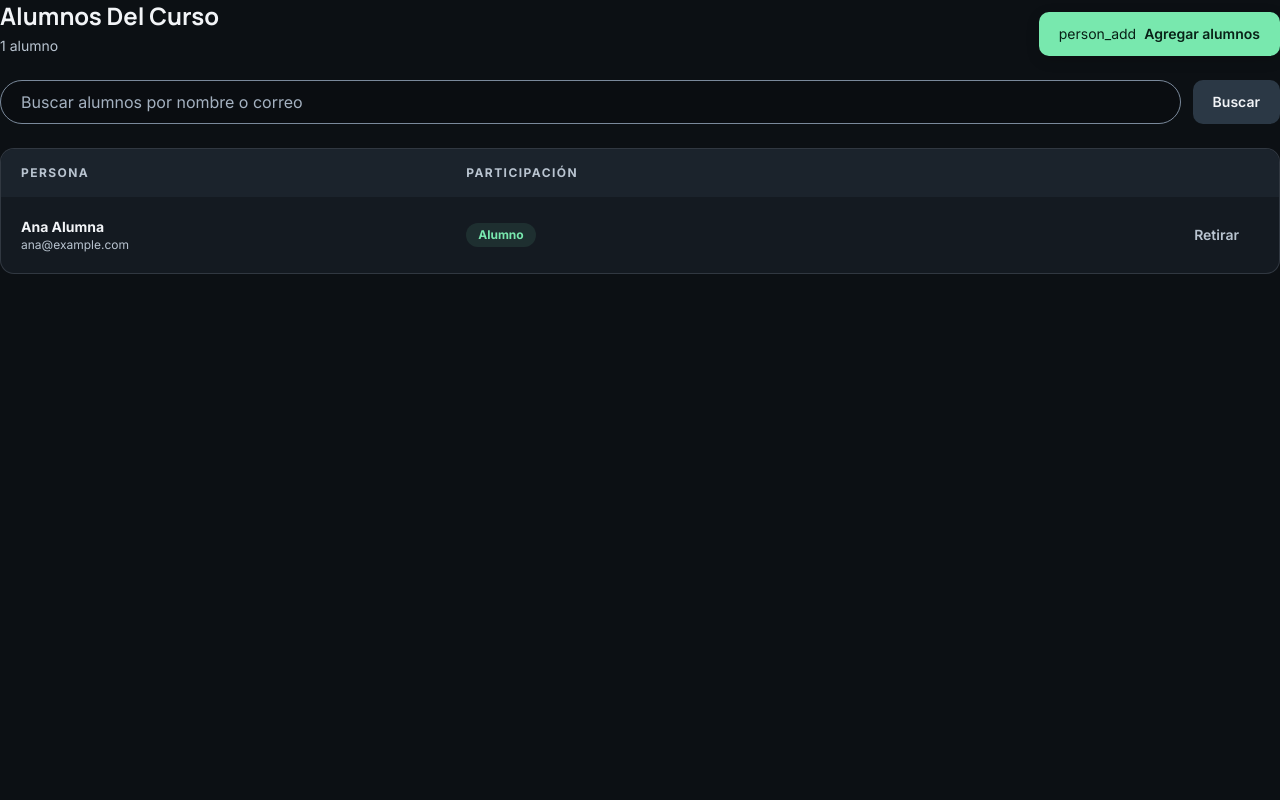
CourseParticipantManager › conserva diálogo y selección ante un conflicto recuperable
Click the button "person_add Agregar alumnos": click(1159, 34) [1039, 12, 1279, 56]
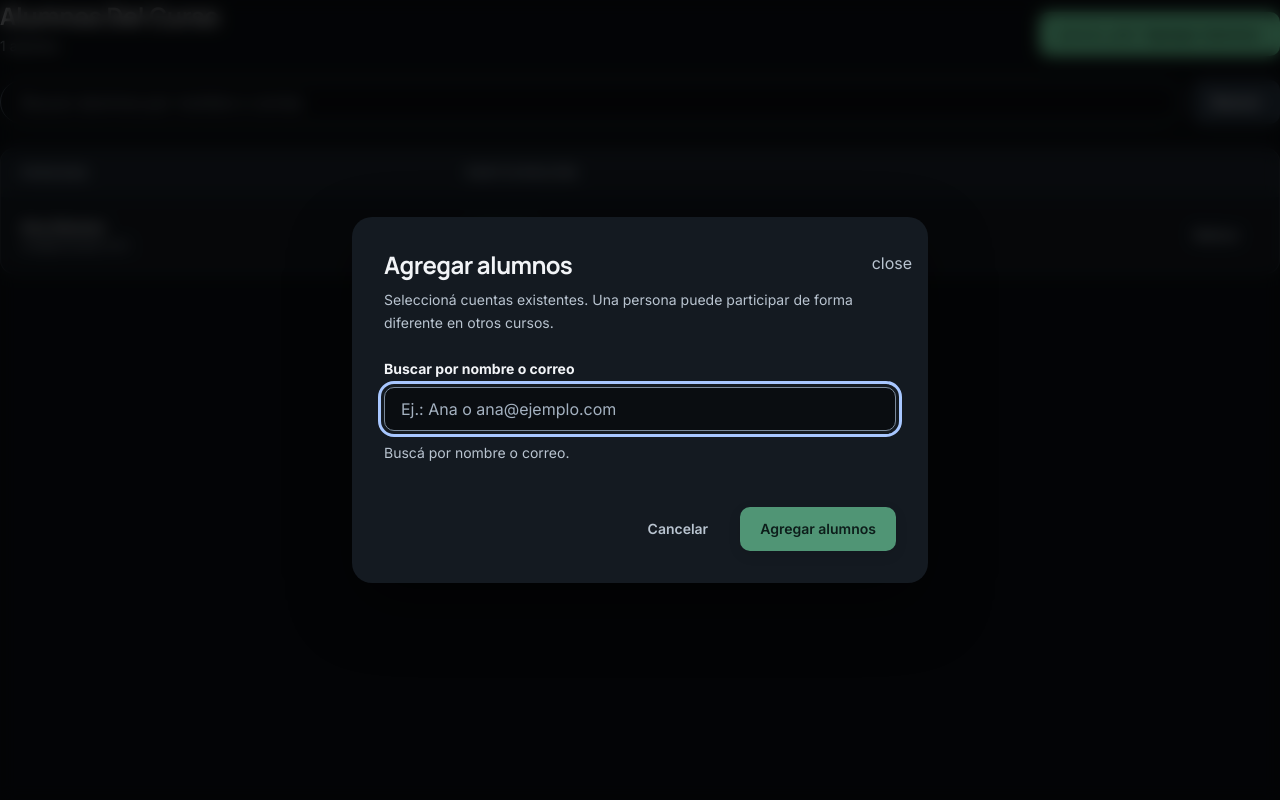
In the search field labelled "Buscar por nombre o correo": (640, 409) [384, 387, 896, 431], type "ad"
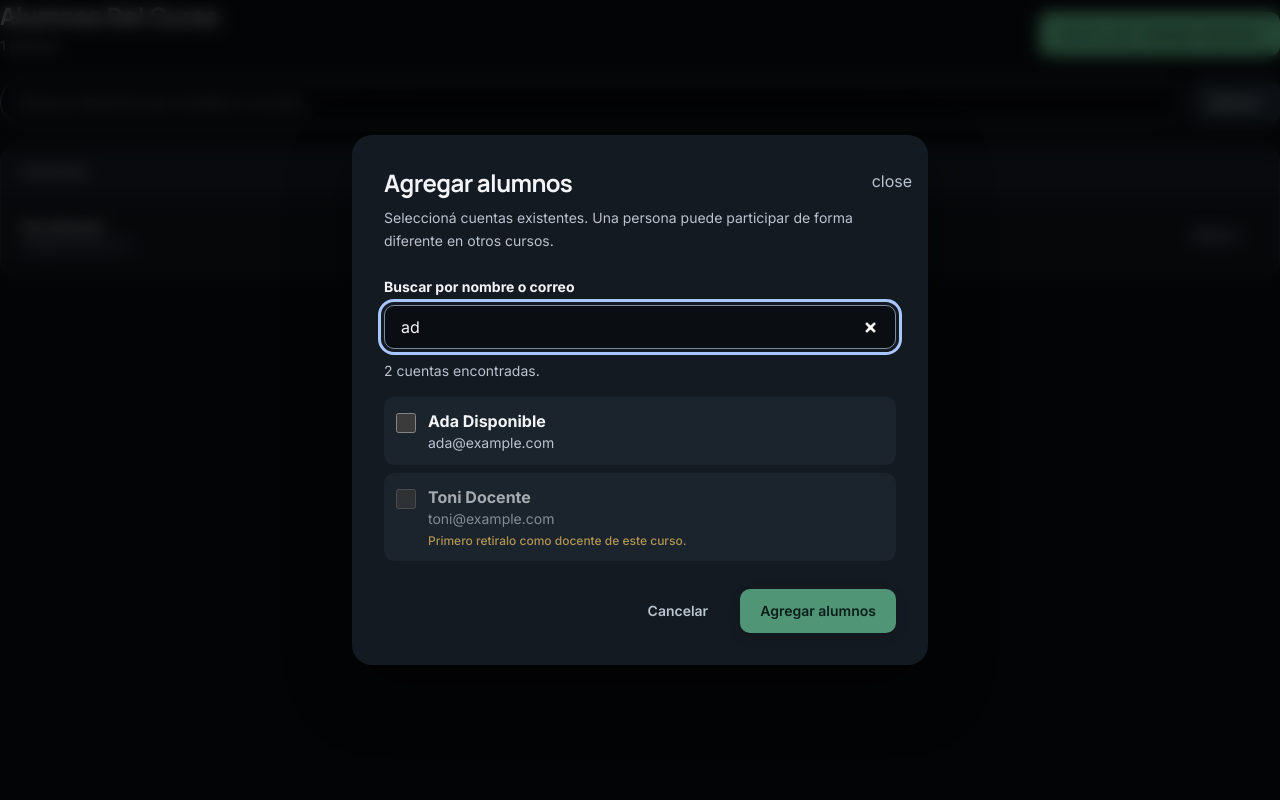
Click the checkbox labelled "Ada Disponible ada@example.com": click(406, 423) [396, 413, 416, 433]
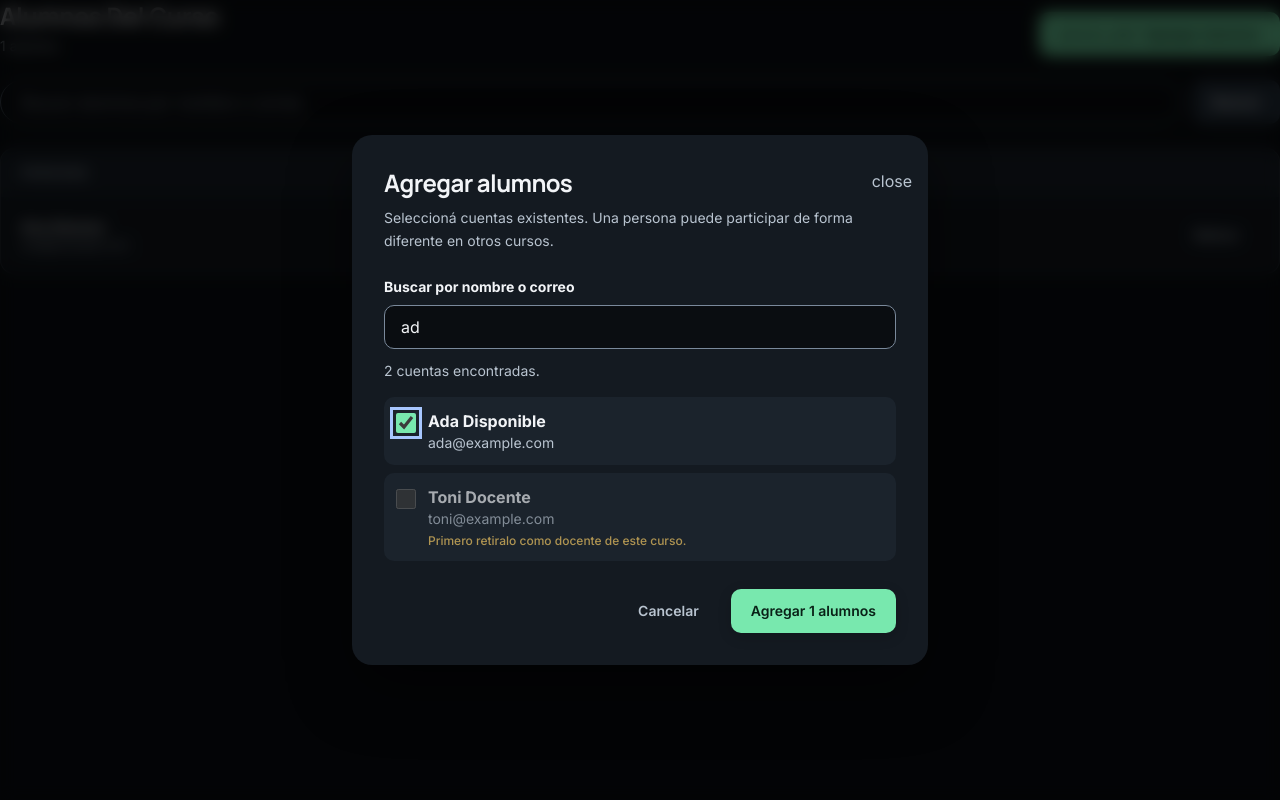
Click the button "Agregar 1 alumnos": click(813, 611) [731, 589, 896, 633]
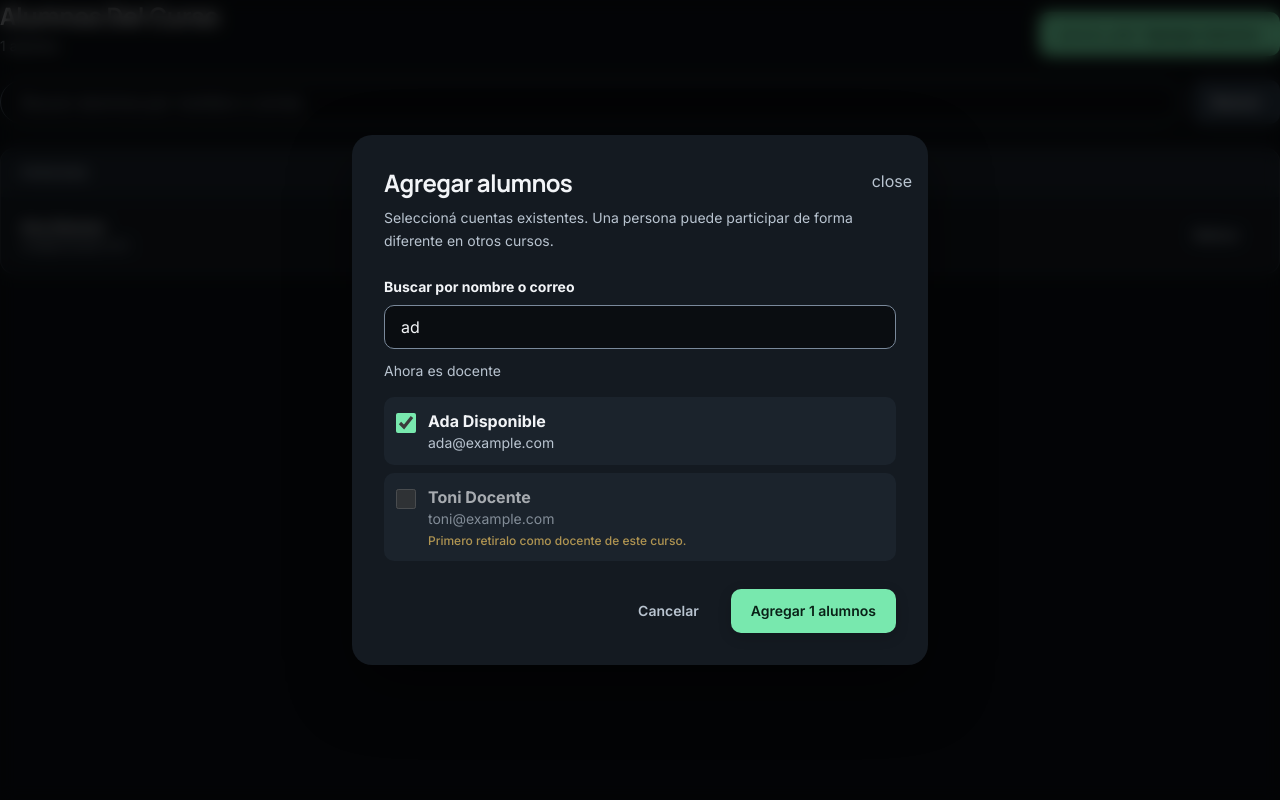
Expected: the checkbox labelled "Ada Disponible ada@example.com" is checked, [396, 413, 416, 433]
Expected: the dialog is shown, [352, 135, 928, 665]
Expected: the text "Ahora es docente" is shown, [384, 362, 501, 379]
